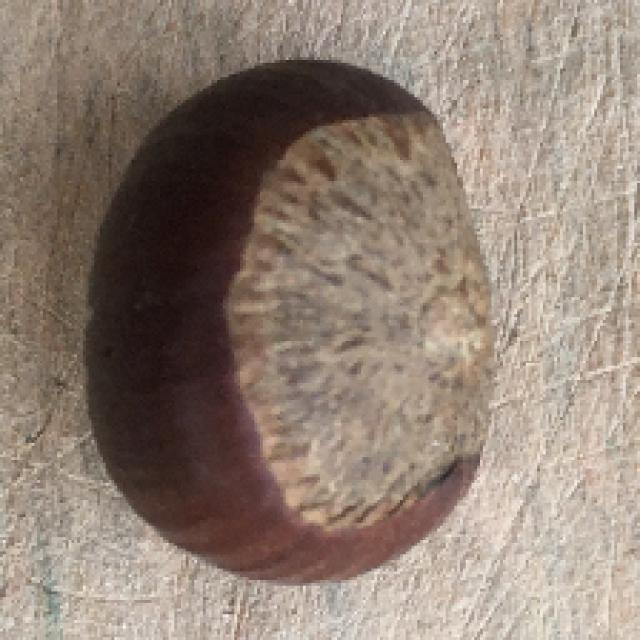damagedHazelnut: (76, 45, 497, 588)
